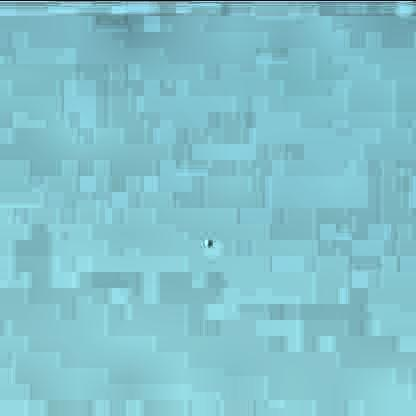golfball: (201, 236, 212, 246)
